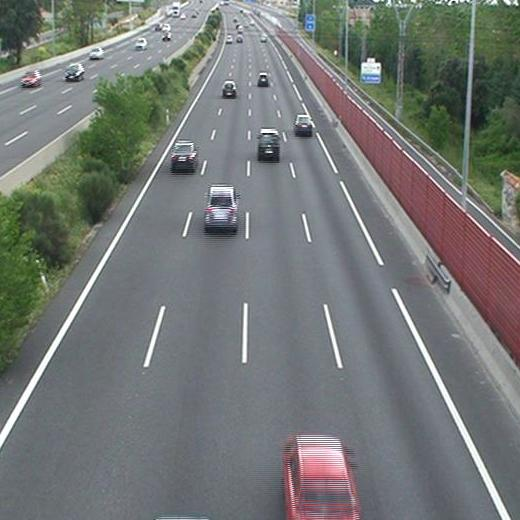car: (284, 437, 358, 520), (205, 187, 237, 227), (171, 142, 196, 169), (258, 129, 280, 157), (294, 116, 312, 134), (221, 81, 237, 96), (258, 72, 269, 87), (235, 35, 243, 42), (260, 34, 267, 41), (225, 35, 230, 42)
